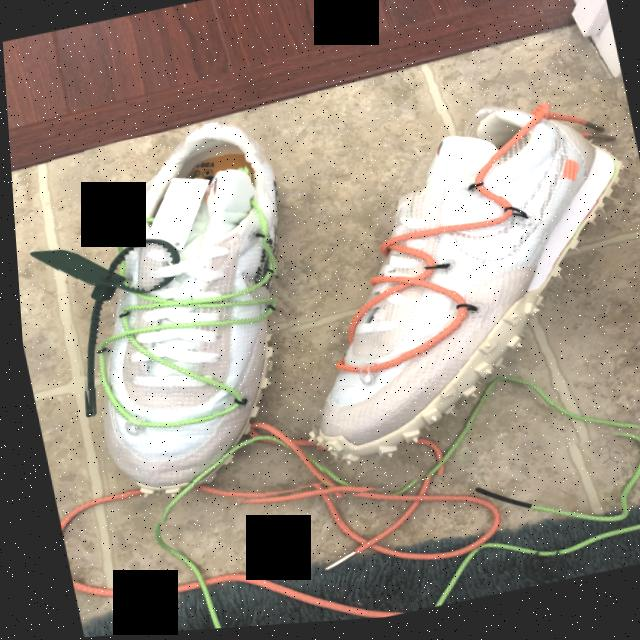shoe: (239, 83, 640, 509), (30, 111, 340, 538)
